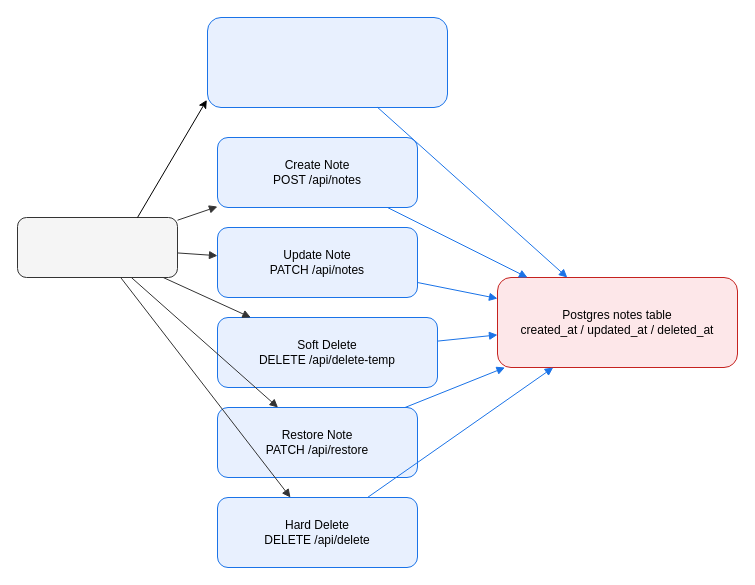
This 755x585 diagram has some shape labels left out. Each missing label, with the centre of its shape:
"Fetch Notes GET /api/active-notes GET /api/deleted-notes" goes at [327,62].
"Frontend Action" goes at [97,247].
